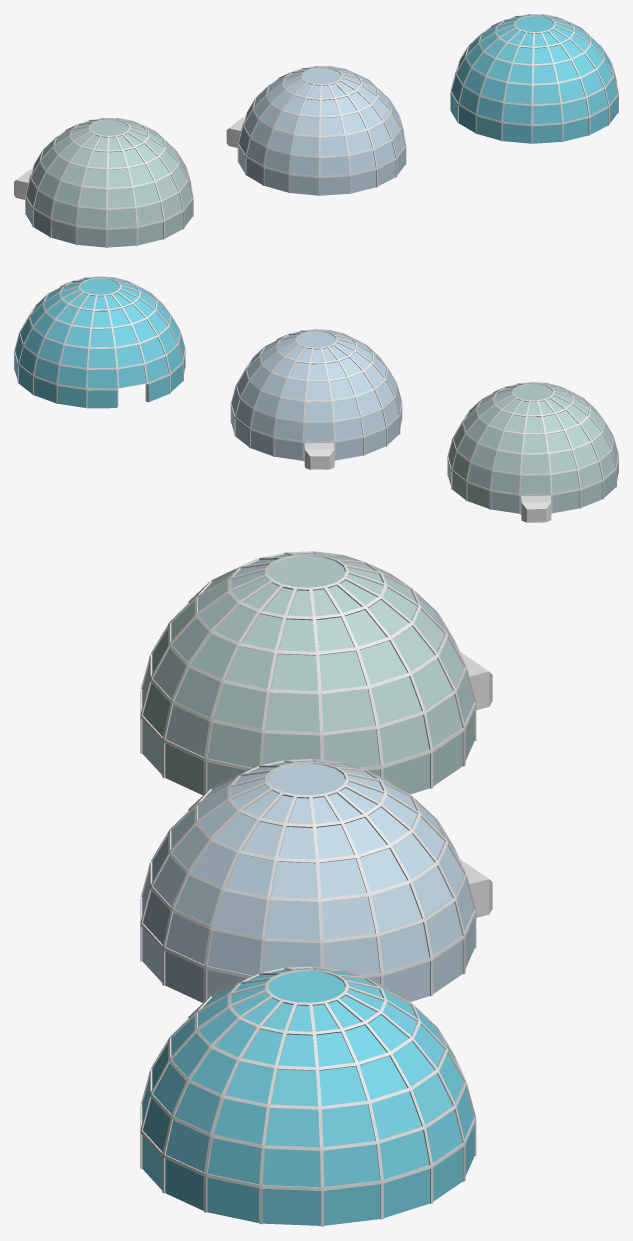
Rendered from dome3.fbx.
The picture shows the model from 3 angles, top to bottom: view 1: azimuth 30°, elevation 25°; view 2: azimuth 150°, elevation 25°; view 3: azimuth 270°, elevation 25°; orthographic projection. The views are drawn at different scales.
Parts seen in each view (by area): view 1: Sphere.004, Sphere.005, Sphere.003; view 2: Sphere.004, Sphere.005, Sphere.003; view 3: Sphere.003, Sphere.005, Sphere.004.
Boxes of the visible parts, left/top/right/bottom form: Sphere.004: left=226, top=66, right=406, bottom=195; Sphere.005: left=14, top=118, right=193, bottom=247; Sphere.003: left=450, top=14, right=618, bottom=143; Sphere.004: left=230, top=329, right=402, bottom=469; Sphere.005: left=447, top=382, right=618, bottom=522; Sphere.003: left=14, top=276, right=185, bottom=408; Sphere.003: left=140, top=966, right=476, bottom=1226; Sphere.005: left=140, top=551, right=492, bottom=795; Sphere.004: left=140, top=759, right=492, bottom=1002.
Bounding box in the file's own units: 780 × 110 × 208.
